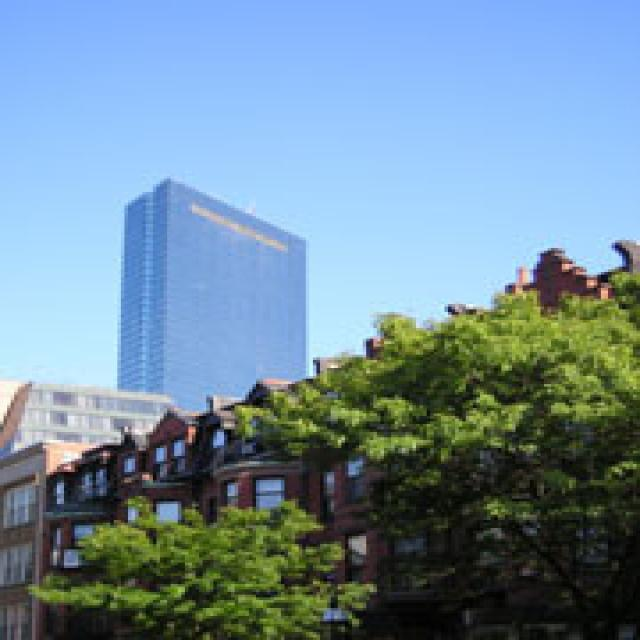building: (48, 243, 640, 640), (0, 381, 196, 640), (116, 178, 308, 394)
